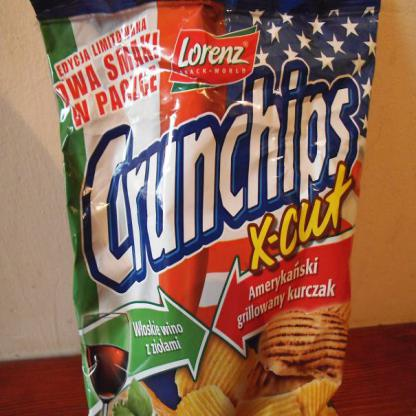potatochip: (27, 0, 384, 415)
